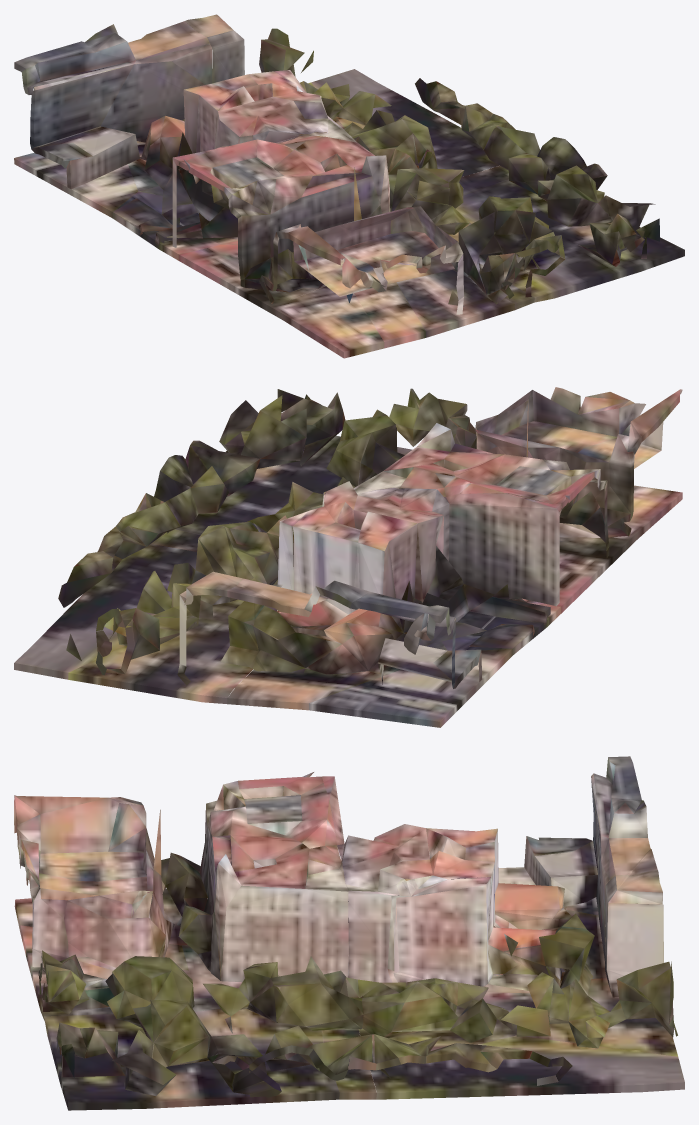
The picture shows the model from 3 angles, top to bottom: view 1: azimuth 30°, elevation 25°; view 2: azimuth 150°, elevation 25°; view 3: azimuth 270°, elevation 25°; orthographic projection. The views are drawn at different scales.
Parts seen in each view (by area): view 1: Mesh_0; view 2: Mesh_0; view 3: Mesh_0.
Boxes of the visible parts, x1,y1,x2,y2 form: Mesh_0: [14, 14, 684, 358]; Mesh_0: [14, 387, 682, 727]; Mesh_0: [14, 756, 684, 1110].
Size of the model in its own units: 133 by 41.97 by 165.
Materials: 1 (1 with a texture image).
